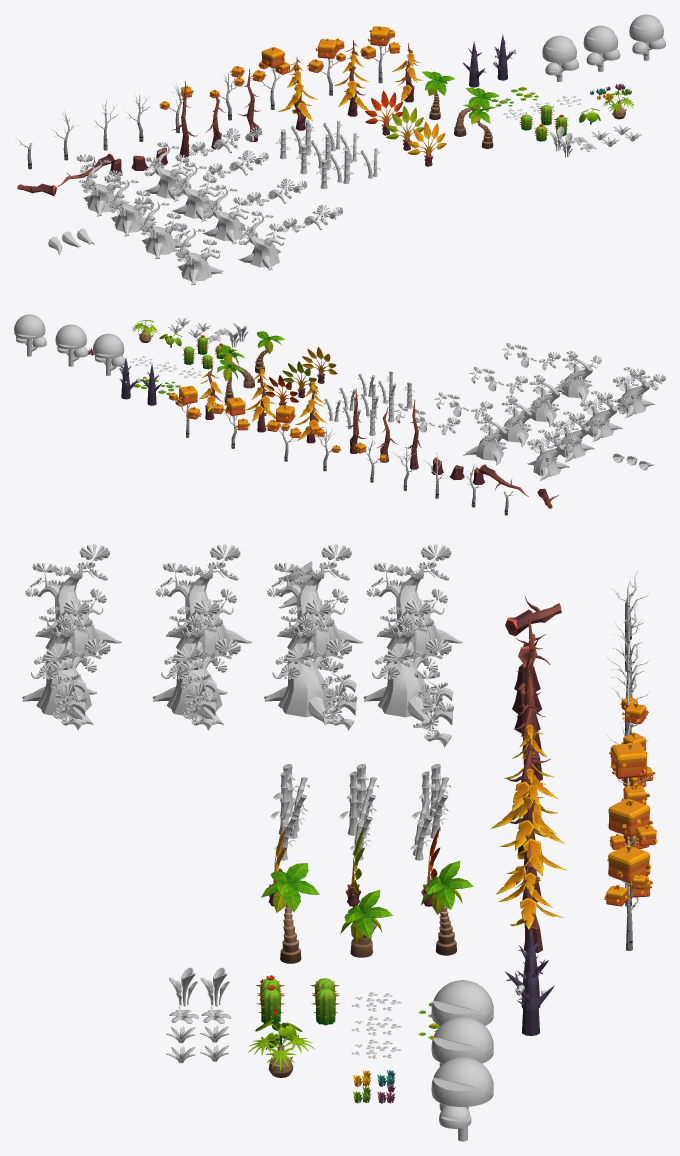
File: TreesPack.fbx
3 renders of one model, top to bottom at view 1: azimuth 30°, elevation 25°; view 2: azimuth 150°, elevation 25°; view 3: azimuth 270°, elevation 25°, orthographic. The views are drawn at different scales.
Parts seen in each view (by area): view 1: ancient_tree_yellow_1, ancient_tree_pink_1, ancient_tree_yellow_2, ancient_tree_pink_2, ancient_tree_1.001, ancient_tree_winter_1.001, ancient_tree_2.001, ancient_tree_winter_2.001, garden_tree_green, garden_tree_yellow, garden_tree_pink, birch3 (+17 smaller); view 2: ancient_tree_winter_1.001, ancient_tree_yellow_1, ancient_tree_pink_1, ancient_tree_1.001, ancient_tree_winter_2.001, ancient_tree_yellow_2, ancient_tree_pink_2, ancient_tree_2.001, garden_tree_pink, garden_tree_yellow, garden_tree_green, birch3 (+19 smaller); view 3: ancient_tree_winter_2.001, ancient_tree_2.001, ancient_tree_winter_1.001, ancient_tree_yellow_1, ancient_tree_1.001, ancient_tree_pink_1, ancient_tree_yellow_2, ancient_tree_pink_2, garden_tree_yellow, birch1, garden_tree_pink, coconut3 (+14 smaller).
Boxes of the visible parts, bbox=[...] form: ancient_tree_yellow_1: bbox=[170, 223, 223, 285]; ancient_tree_pink_1: bbox=[135, 196, 183, 258]; ancient_tree_yellow_2: bbox=[238, 211, 285, 270]; ancient_tree_pink_2: bbox=[202, 184, 249, 244]; ancient_tree_1.001: bbox=[104, 174, 157, 236]; ancient_tree_winter_1.001: bbox=[76, 154, 129, 216]; ancient_tree_2.001: bbox=[172, 162, 218, 221]; ancient_tree_winter_2.001: bbox=[144, 142, 190, 201]; garden_tree_green: bbox=[542, 35, 578, 81]; garden_tree_yellow: bbox=[629, 14, 665, 60]; garden_tree_pink: bbox=[583, 25, 620, 71]; birch3: bbox=[251, 47, 290, 109]; ancient_tree_winter_1.001: bbox=[527, 429, 580, 480]; ancient_tree_yellow_1: bbox=[612, 367, 665, 418]; ancient_tree_pink_1: bbox=[580, 390, 633, 442]; ancient_tree_1.001: bbox=[552, 411, 605, 462]; ancient_tree_winter_2.001: bbox=[463, 413, 516, 465]; ancient_tree_yellow_2: bbox=[548, 350, 601, 402]; ancient_tree_pink_2: bbox=[520, 374, 569, 426]; ancient_tree_2.001: bbox=[495, 395, 541, 447]; garden_tree_pink: bbox=[55, 324, 88, 366]; garden_tree_yellow: bbox=[14, 314, 46, 356]; garden_tree_green: bbox=[93, 333, 125, 375]; birch3: bbox=[265, 405, 301, 461]; ancient_tree_winter_2.001: bbox=[363, 616, 451, 725]; ancient_tree_2.001: bbox=[264, 616, 351, 724]; ancient_tree_winter_1.001: bbox=[366, 544, 462, 658]; ancient_tree_yellow_1: bbox=[25, 544, 121, 658]; ancient_tree_1.001: bbox=[267, 544, 363, 658]; ancient_tree_pink_1: bbox=[155, 544, 251, 658]; ancient_tree_yellow_2: bbox=[22, 616, 110, 725]; ancient_tree_pink_2: bbox=[152, 616, 240, 725]; garden_tree_yellow: bbox=[431, 1057, 493, 1141]; birch1: bbox=[604, 845, 652, 950]; garden_tree_pink: bbox=[431, 1016, 493, 1066]; coconut3: bbox=[261, 863, 319, 963].
Bounding box in the file's own units: 8533 × 975 × 3944.
